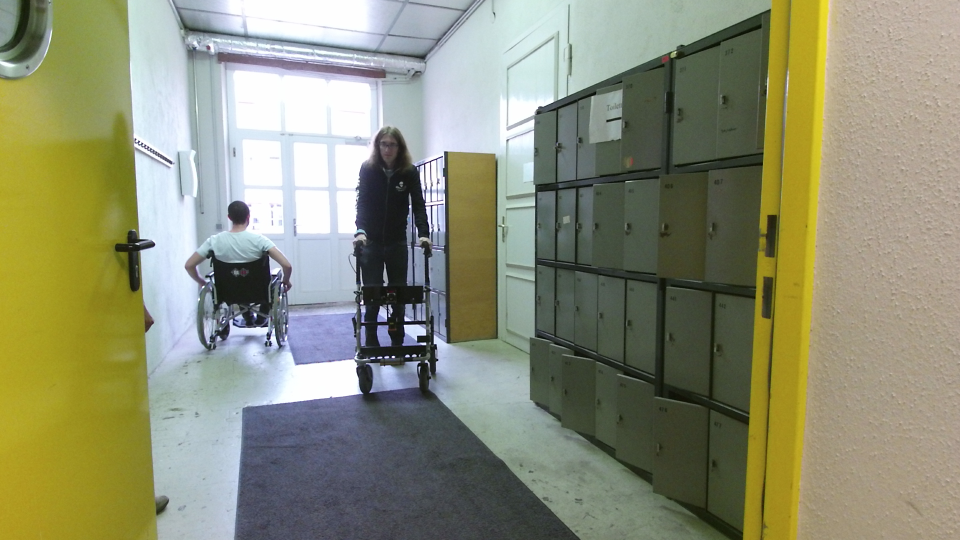wheelchair: (181, 197, 294, 355)
